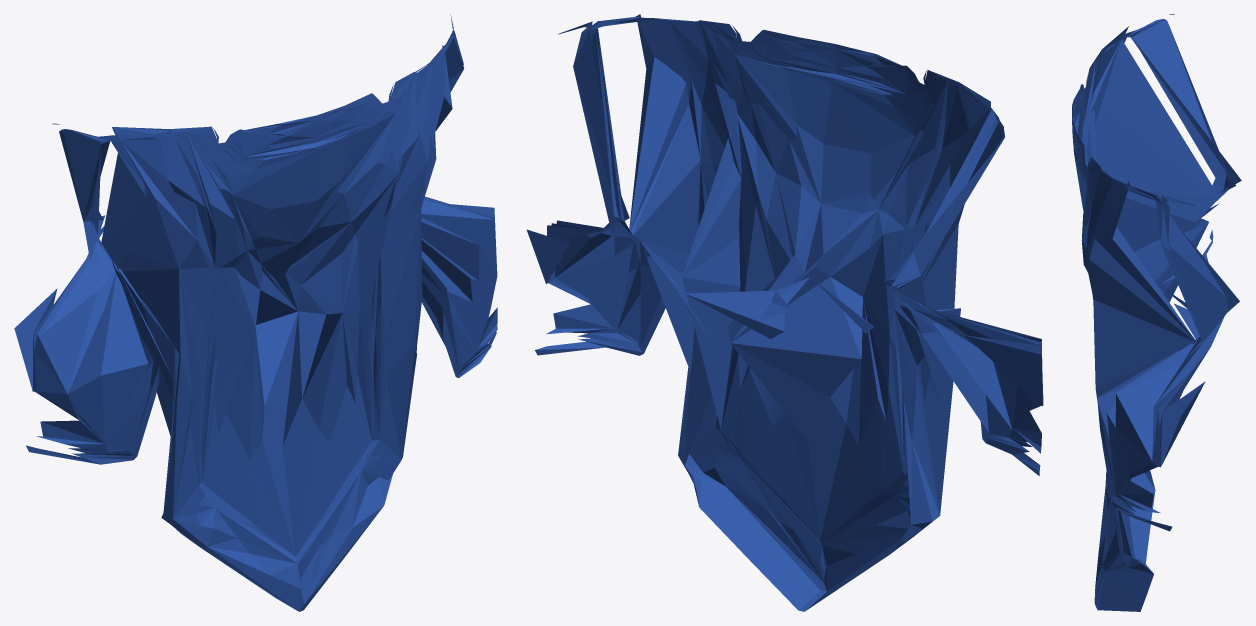
The model's file is kleidung.waffenrock.v003.glb.
The picture shows the model from 3 angles, left to right: view 1: azimuth 30°, elevation 25°; view 2: azimuth 150°, elevation 25°; view 3: azimuth 270°, elevation 25°; orthographic projection. The views are drawn at different scales.
Parts seen in each view (by area): view 1: kleidung.waffenrock.v003.001; view 2: kleidung.waffenrock.v003.001; view 3: kleidung.waffenrock.v003.001.
Part boxes in pixels (x1,y1,x2,y2): kleidung.waffenrock.v003.001: (14,14,497,611); kleidung.waffenrock.v003.001: (527,14,1043,611); kleidung.waffenrock.v003.001: (1072,14,1241,611).
Size of the model in its own units: 0.4091 by 0.4202 by 0.1282.
